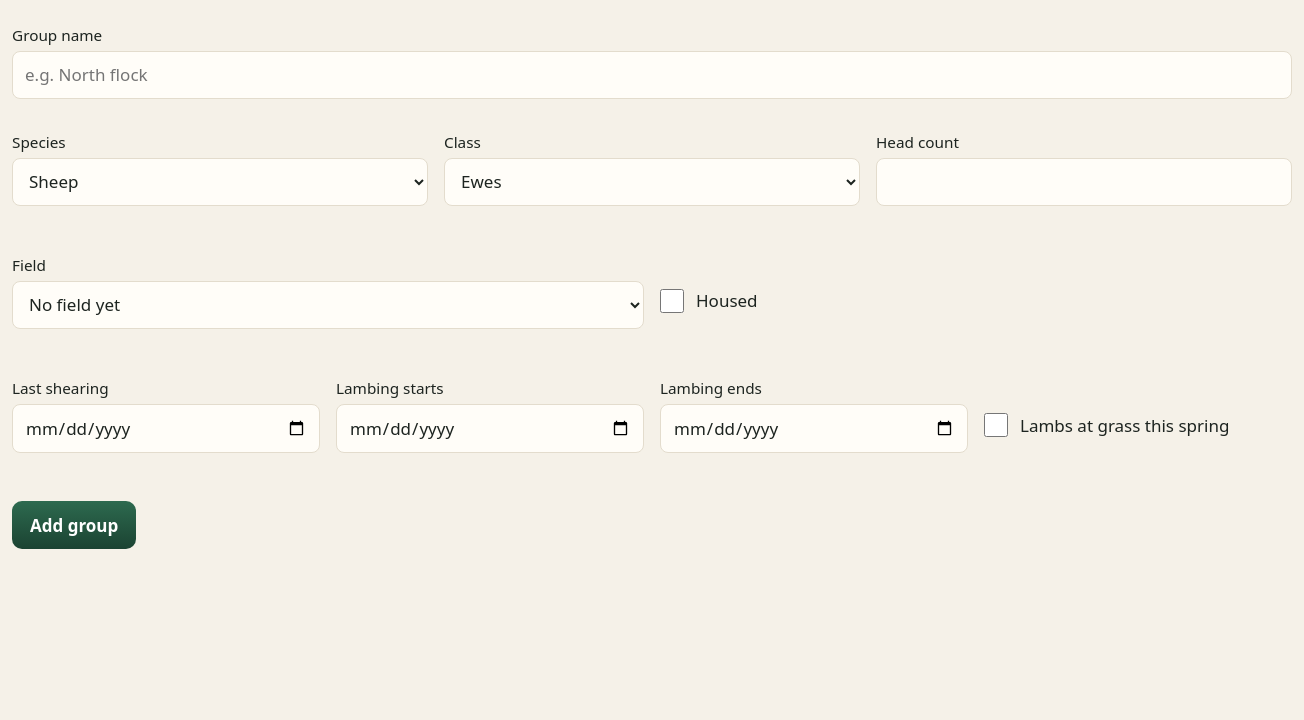
Test: GroupForm (FR-2.3, FR-2.5) › needs both lambing dates, end on or after start
Type "Flock" into the field labelled "Group name".
click(652, 75); type("Flock")  # box [12,51,1292,99]
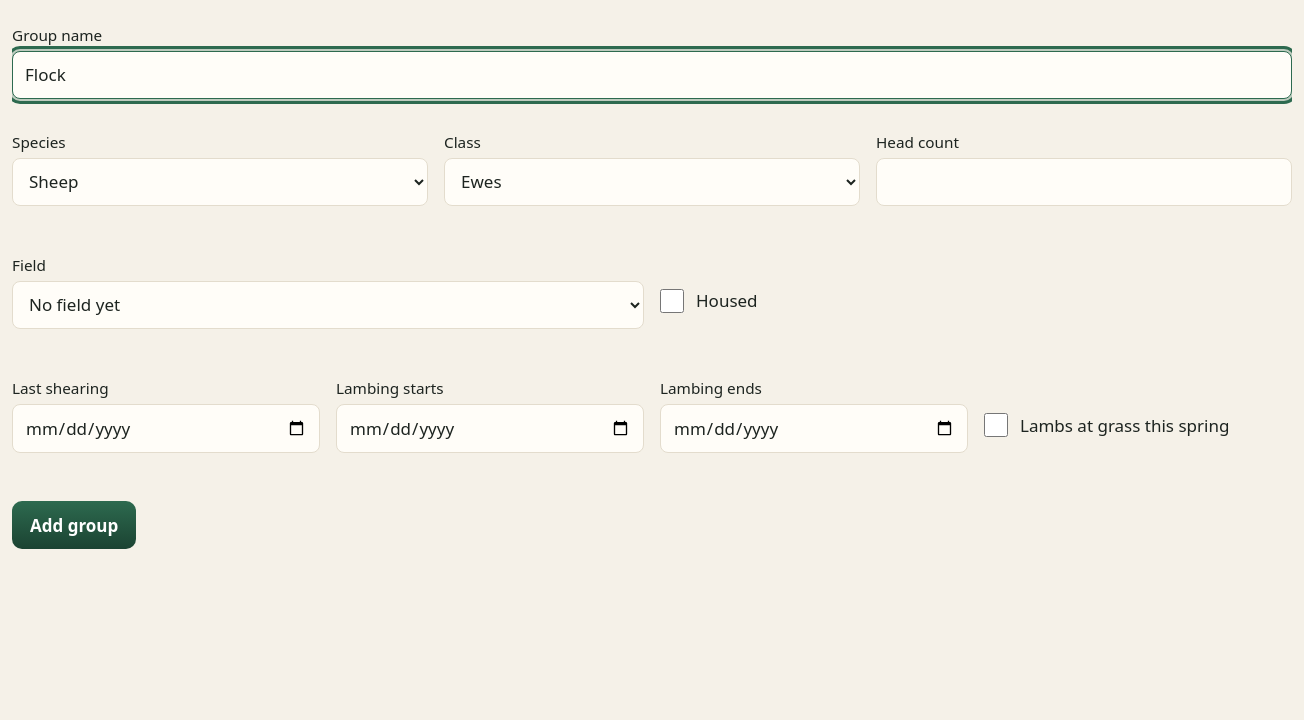
Type "10" into the number field labelled "Head count".
click(1084, 182); type("10")  # box [876,158,1292,206]
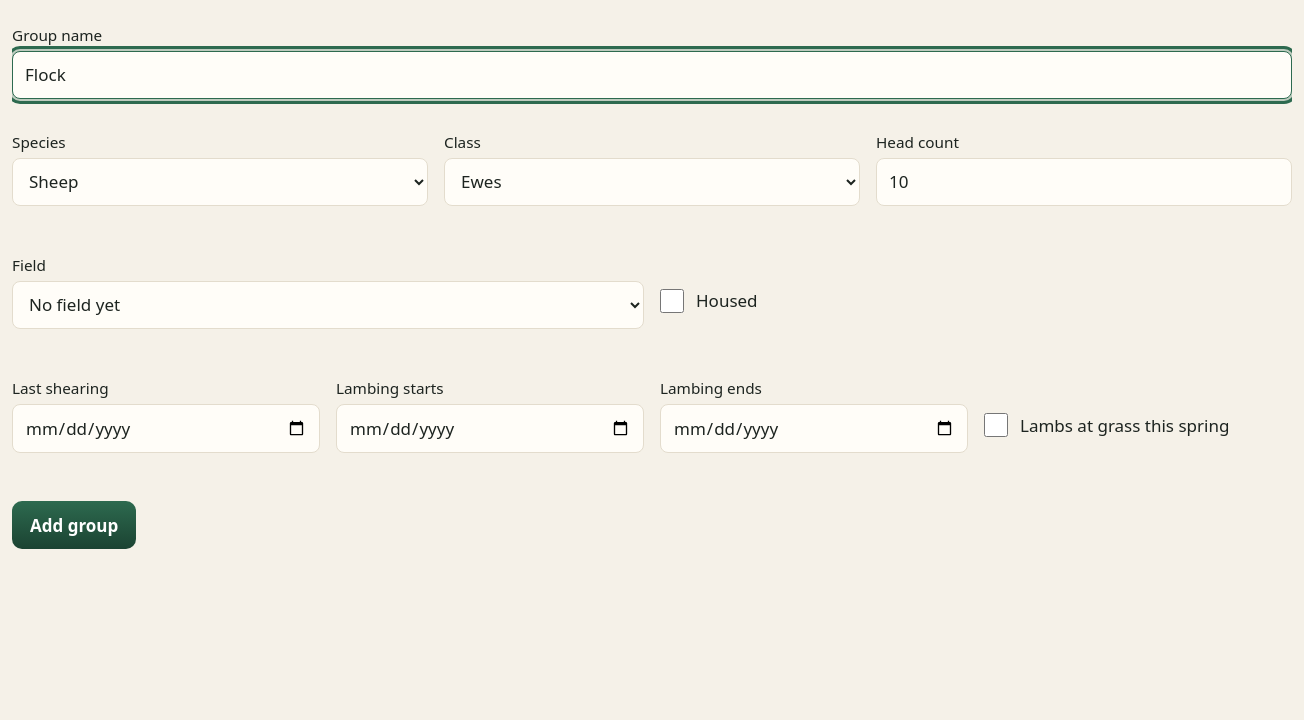
Type "2026-03-02" into the date field labelled "Lambing starts".
click(490, 429); type("2026-03-02")  # box [336,404,644,453]
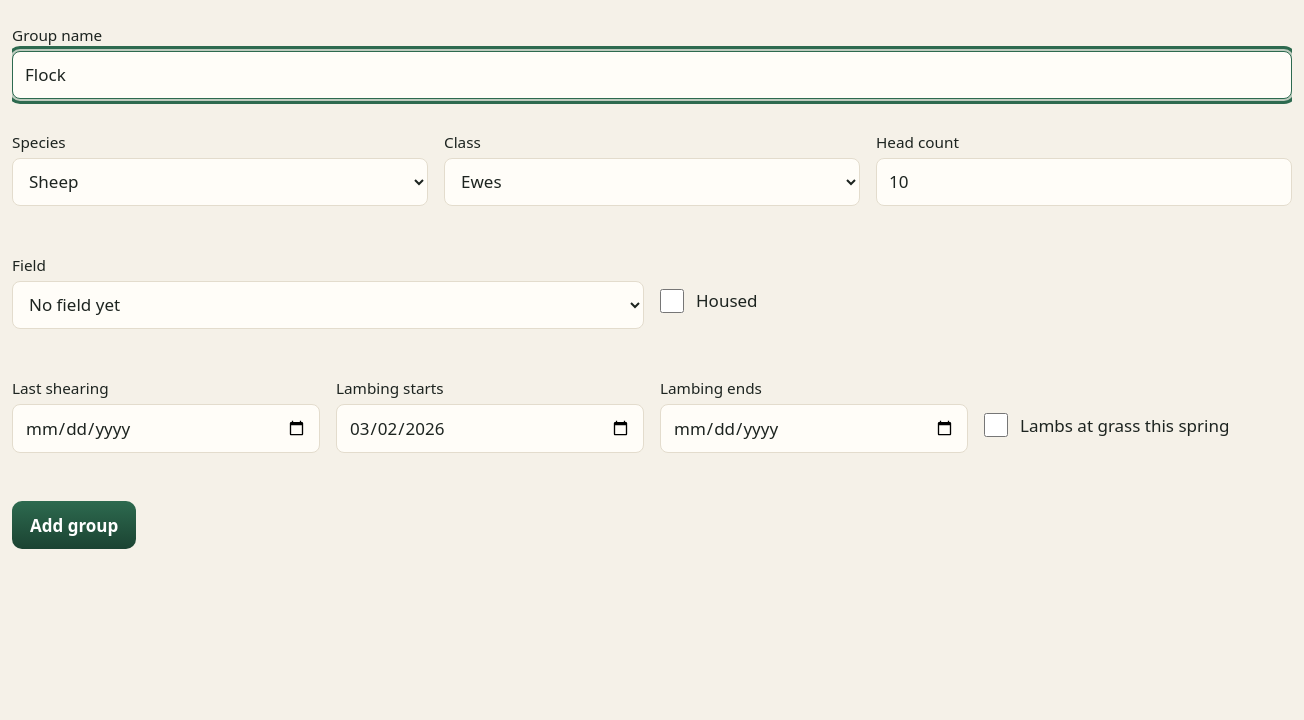
Type "2026-03-01" into the date field labelled "Lambing ends".
click(814, 429); type("2026-03-01")  # box [660,404,968,453]
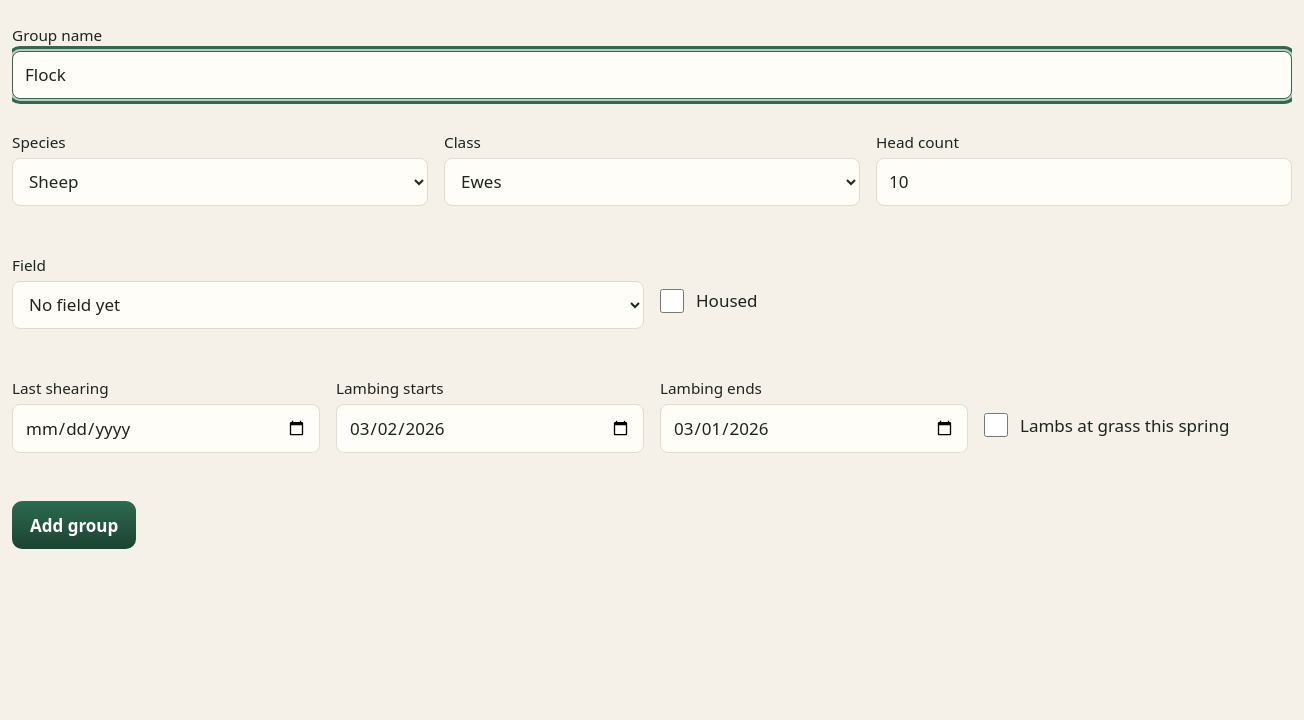
Click the button "Add group".
click(74, 525)  # box [12,501,136,549]
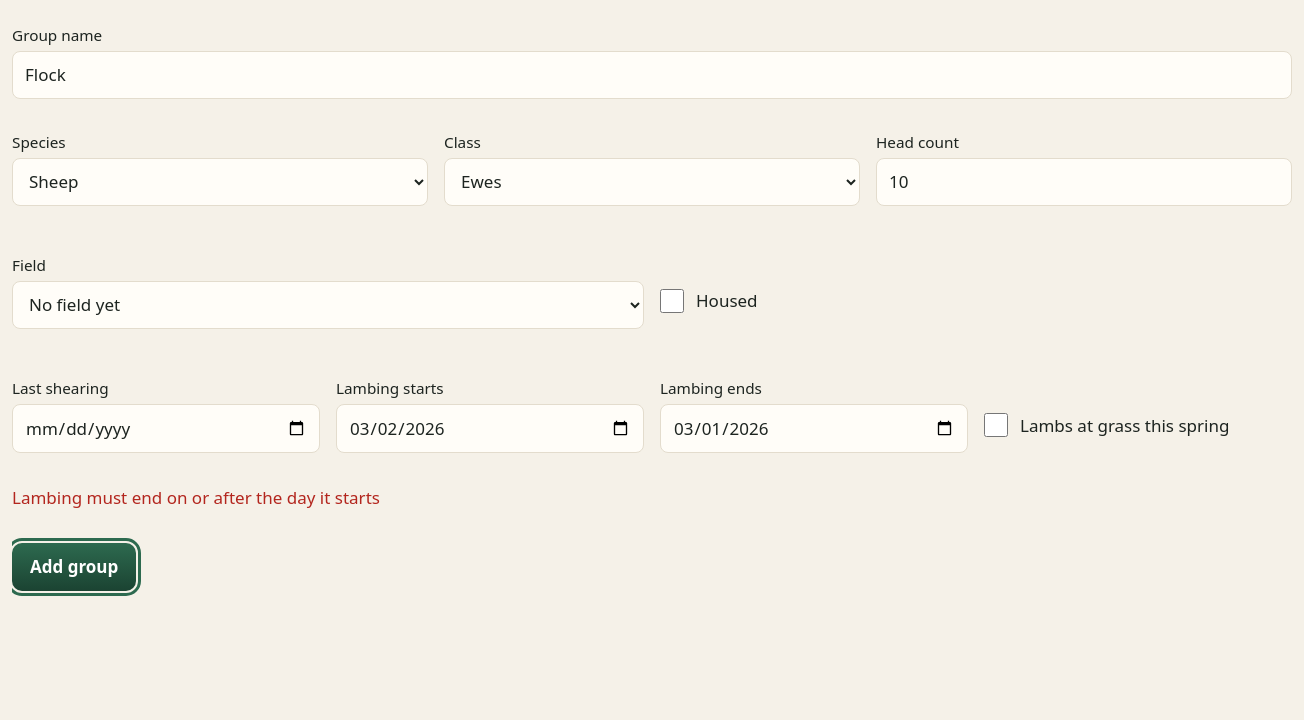
Now the message shows "on or after", box [12,486,380,509]
